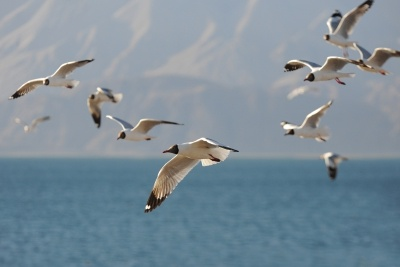bird: (134, 135, 241, 215), (6, 56, 92, 104), (323, 1, 372, 56), (104, 111, 185, 144), (279, 98, 337, 142), (282, 56, 362, 87), (81, 84, 124, 127), (346, 43, 398, 76), (10, 114, 48, 137), (320, 154, 347, 177)
